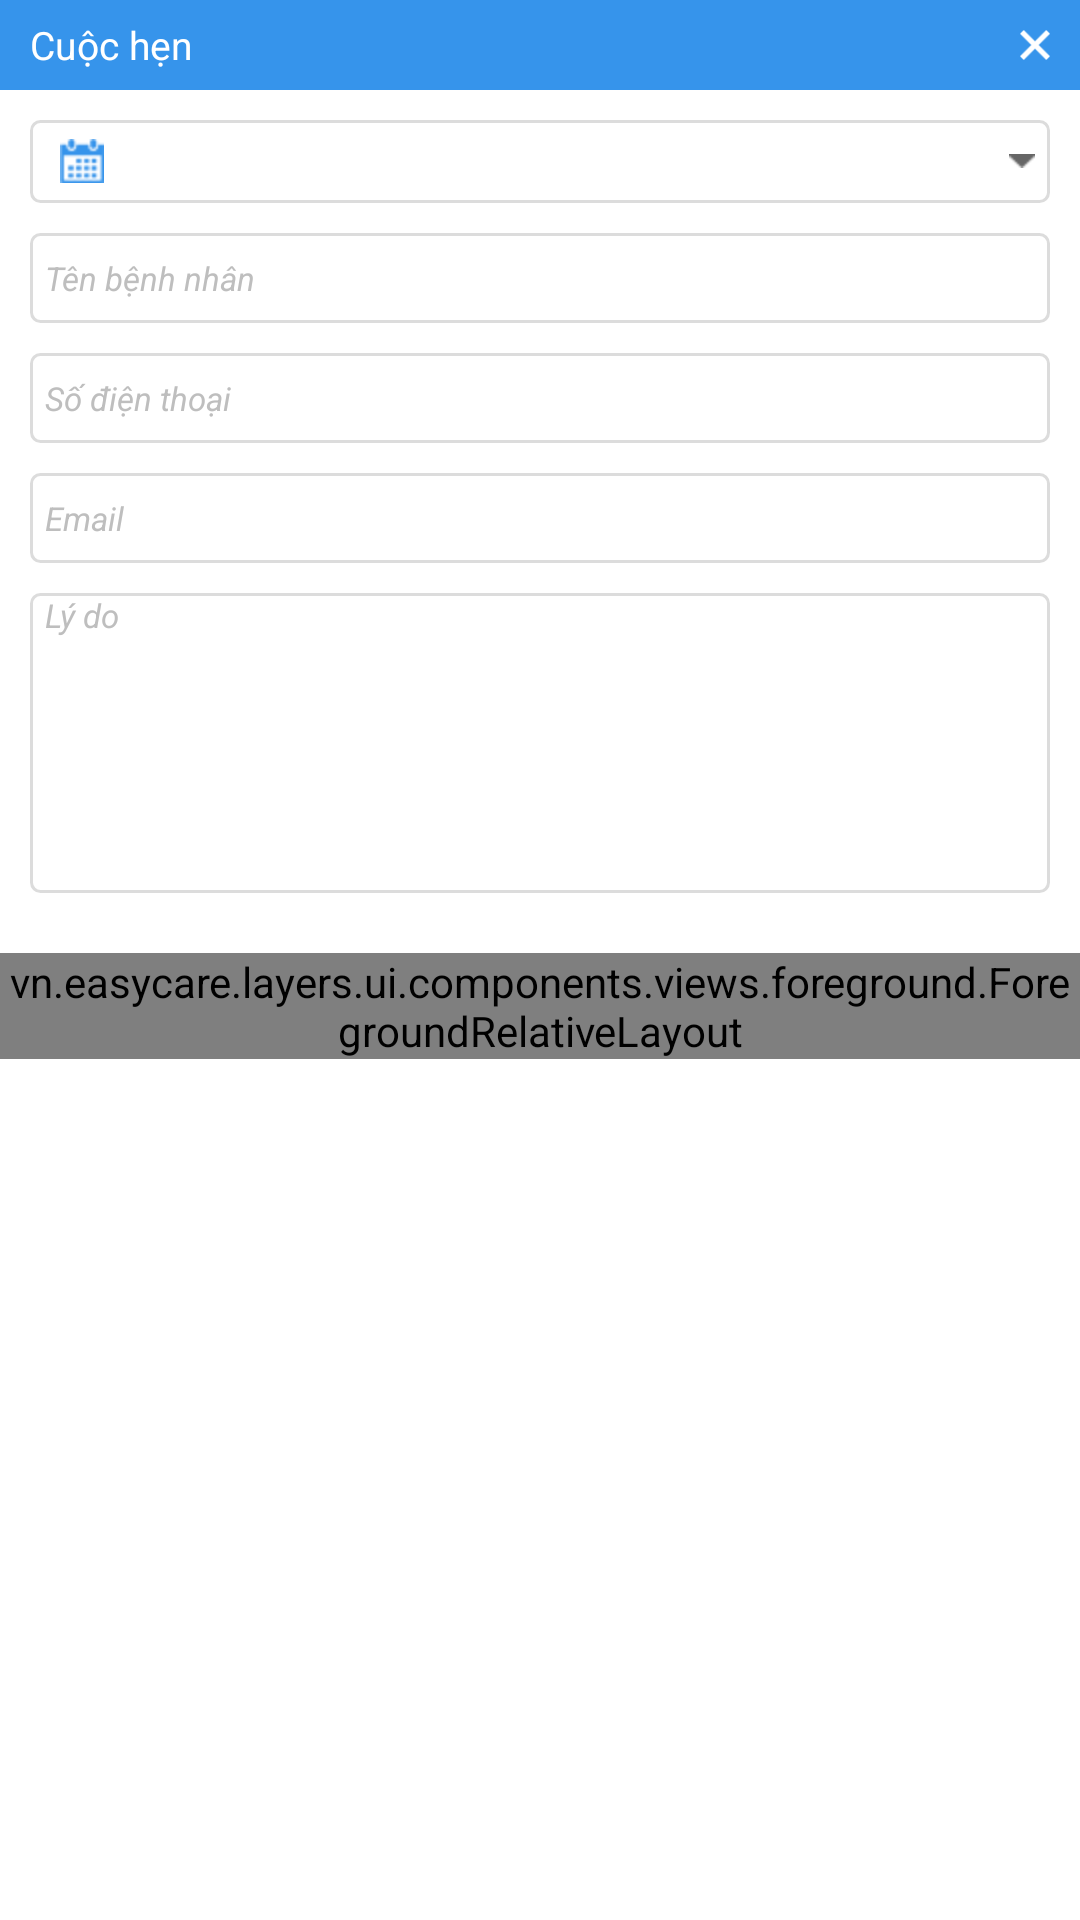

Where icons sit on this 1080 x 1920 app screen, as (x1, y1, x2, y2):
calendar: (60, 139, 104, 183)
close: (1020, 30, 1050, 60)
